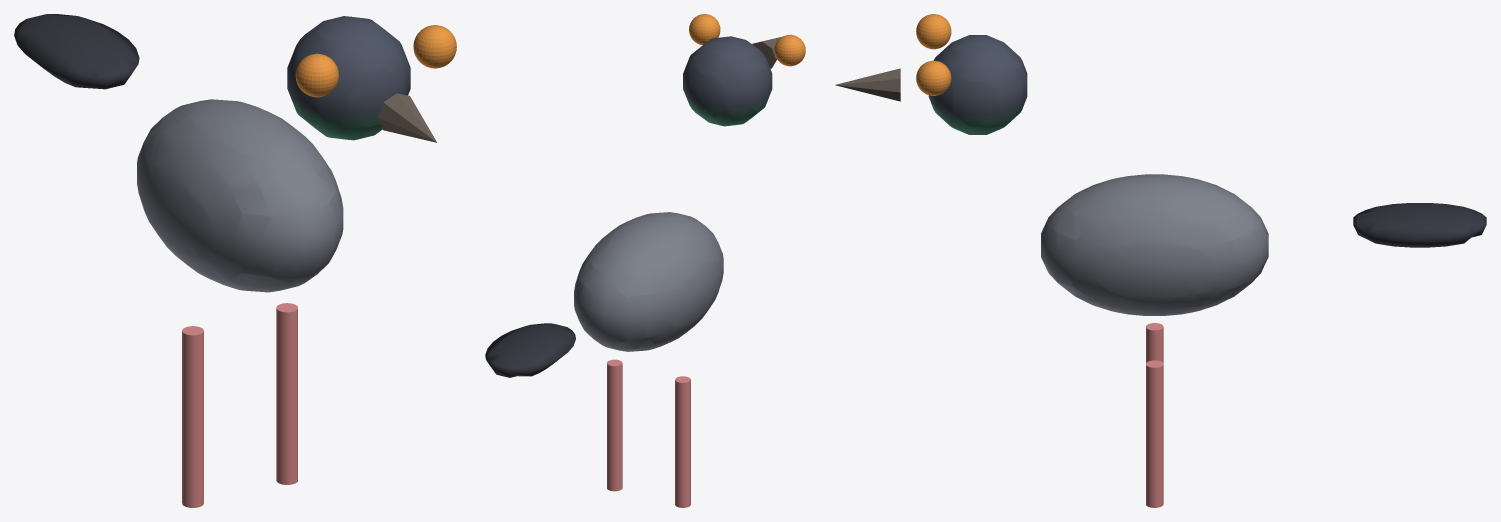
File: pigeon.glb
The picture shows the model from 3 angles, left to right: view 1: azimuth 30°, elevation 25°; view 2: azimuth 150°, elevation 25°; view 3: azimuth 270°, elevation 25°; orthographic projection. The views are drawn at different scales.
Visible parts, largest first — view 1: pigeon.001; view 2: pigeon.001; view 3: pigeon.001.
Part boxes in pixels (x1,y1,x2,y2): pigeon.001: [14, 14, 456, 507]; pigeon.001: [485, 14, 805, 507]; pigeon.001: [835, 14, 1486, 507].
Bounding box in the file's own units: 0.066 × 0.223 × 0.2952.
